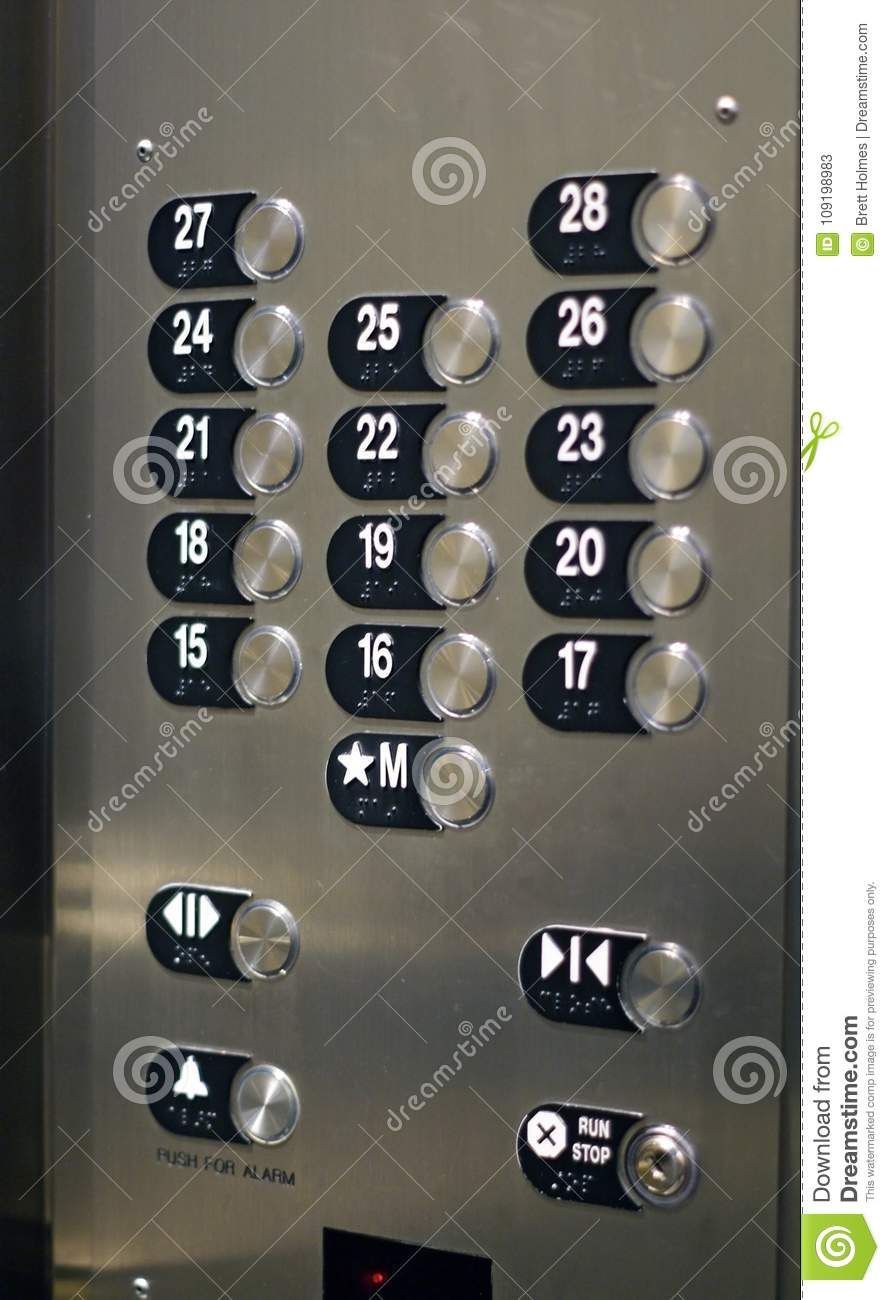button: (514, 919, 707, 1046), (522, 394, 717, 510), (521, 280, 719, 394), (517, 629, 714, 743), (136, 866, 308, 996), (522, 166, 713, 280), (521, 516, 717, 622), (138, 1038, 310, 1157), (322, 288, 503, 400), (324, 733, 505, 844), (324, 621, 502, 727), (325, 400, 502, 504), (325, 510, 500, 613), (142, 189, 310, 294), (144, 294, 305, 399), (142, 508, 307, 610), (141, 402, 305, 502), (144, 614, 307, 713)
